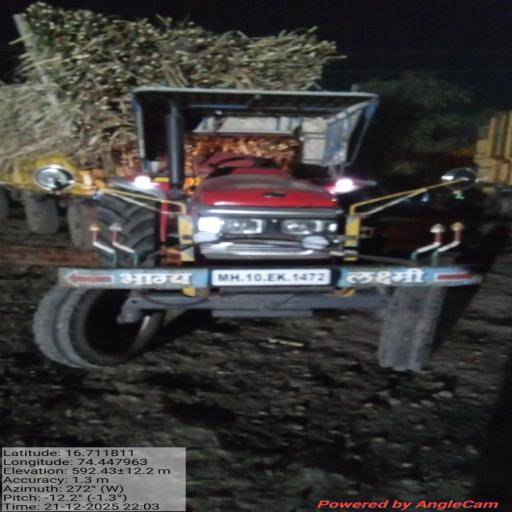number_plate: (212, 269, 331, 286)
